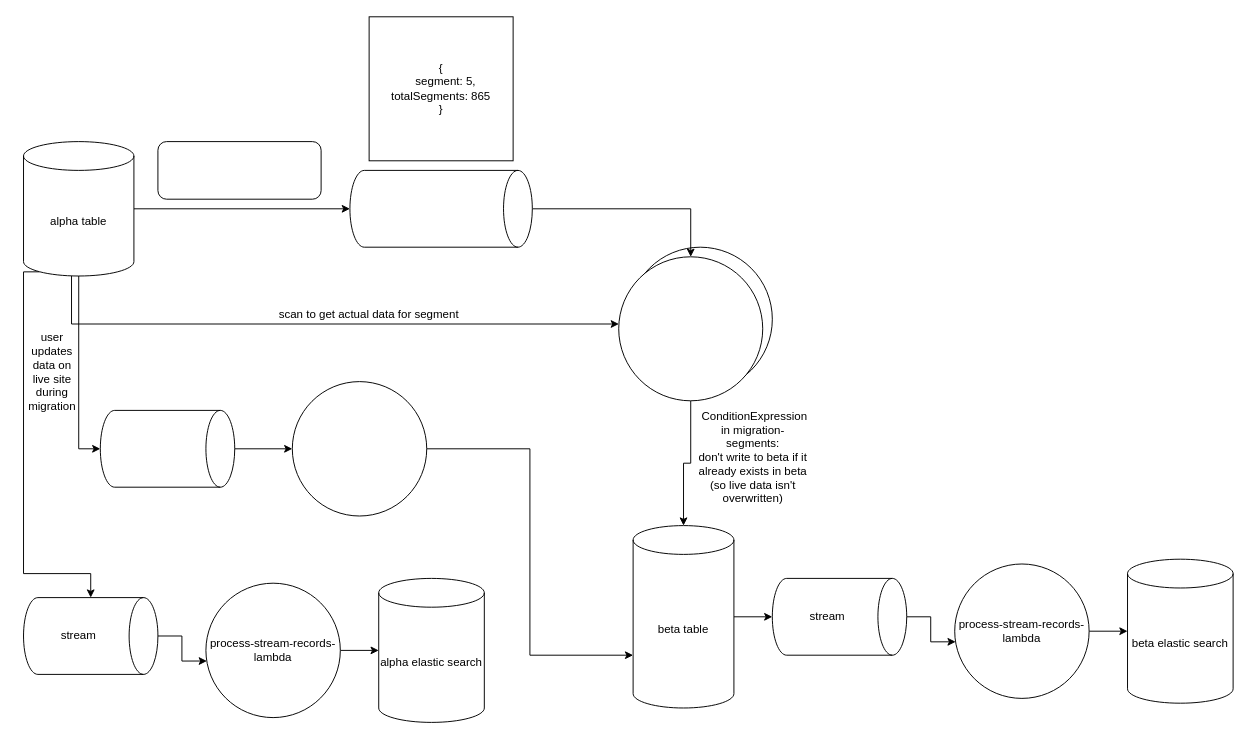
Some shapes in this 1250 by 739 pixel diagram are drawn without their labels. Here are the shapes that lost their labels. From the top down, the box of each, then its label:
(157, 141, 321, 199): npm run start:migration (send-migration-segment-messages.js)
(349, 169, 532, 247): migration-segments-queue
(618, 256, 763, 401): migration-segments-lambda (migrate the data)
(99, 409, 235, 487): migration stream
(291, 381, 427, 516): migration-lambda (migrate live data)
